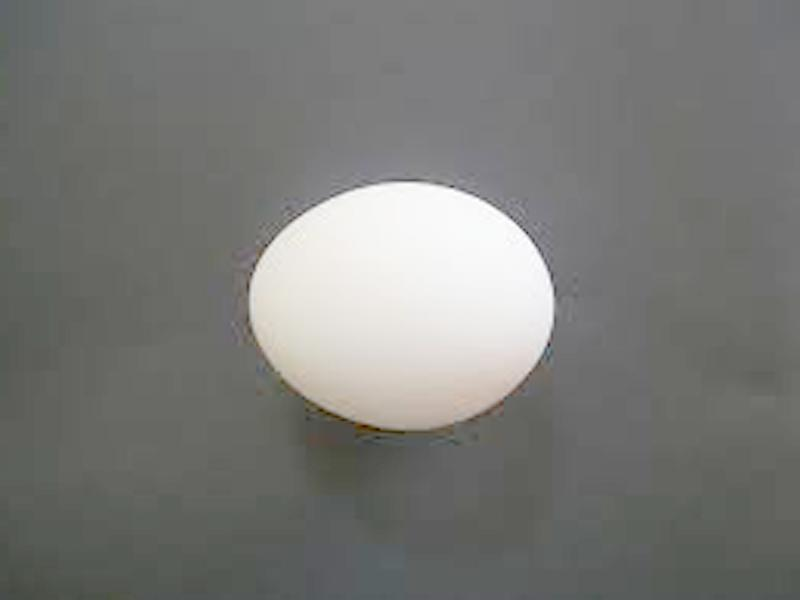Eggs: (246, 182, 546, 427)
